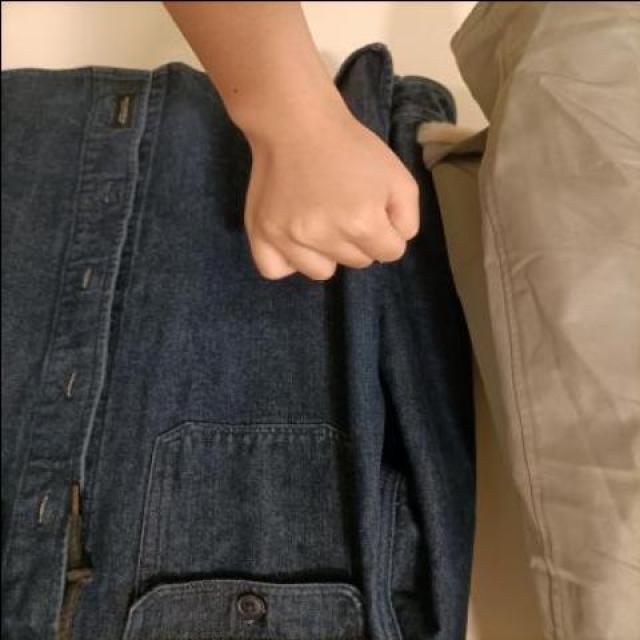fist: (229, 96, 419, 280)
